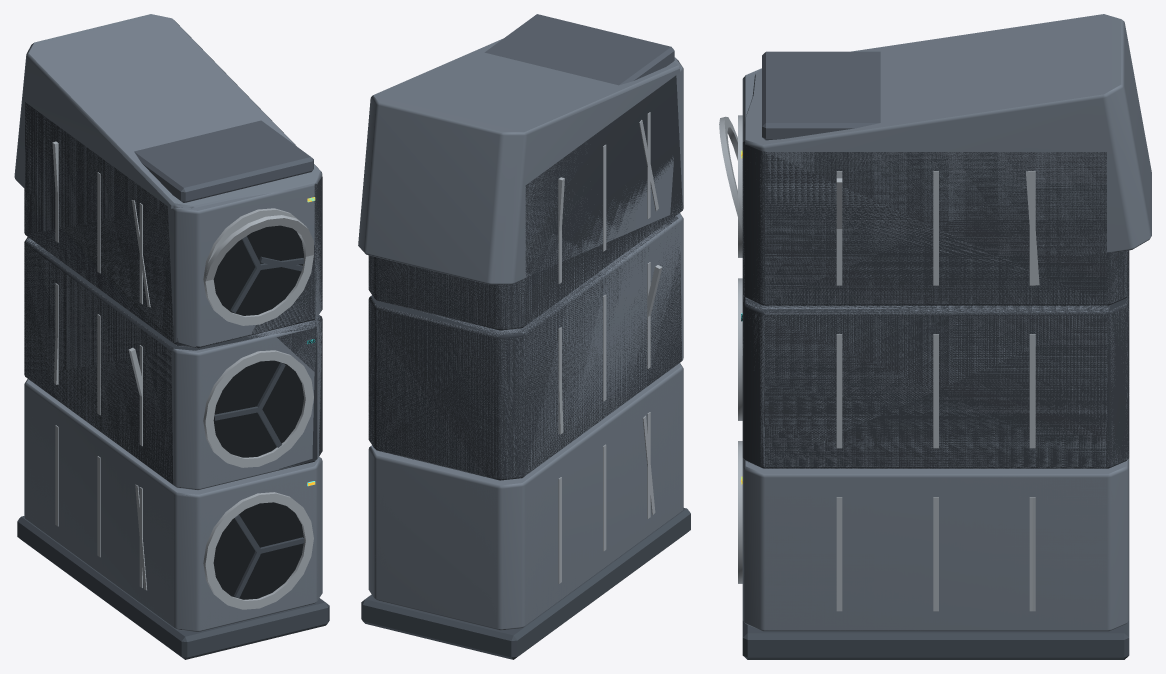
The model's file is hlx_cmp_cooling_stack_a.glb.
3 views of the same model, side by side, from view 1: azimuth 30°, elevation 25°; view 2: azimuth 150°, elevation 25°; view 3: azimuth 270°, elevation 25° (orthographic). The views are drawn at different scales.
Visible parts, largest first — view 1: mesh_intact, mesh_heavy, mesh_light; view 2: mesh_light, mesh_intact, mesh_heavy; view 3: mesh_heavy, mesh_intact, mesh_light.
Boxes of the visible parts, x1,y1,x2,y2 form: mesh_intact: [17, 103, 329, 659]; mesh_heavy: [17, 102, 329, 659]; mesh_light: [14, 14, 322, 630]; mesh_light: [358, 15, 683, 630]; mesh_intact: [361, 14, 690, 659]; mesh_heavy: [361, 17, 690, 659]; mesh_heavy: [719, 51, 1129, 659]; mesh_intact: [738, 51, 1129, 659]; mesh_light: [738, 14, 1151, 631].
Size of the model in its own units: 0.471 by 1.28 by 0.8826.
